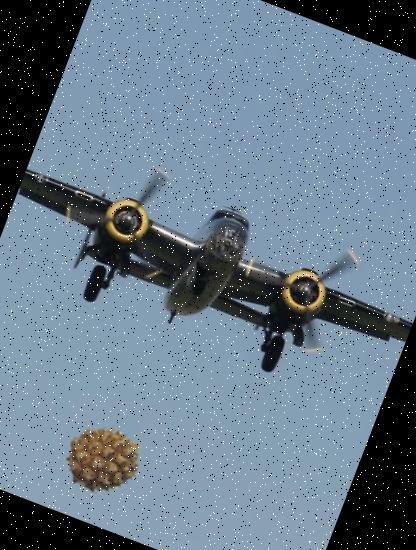Pineapple: (54, 412, 152, 508)
